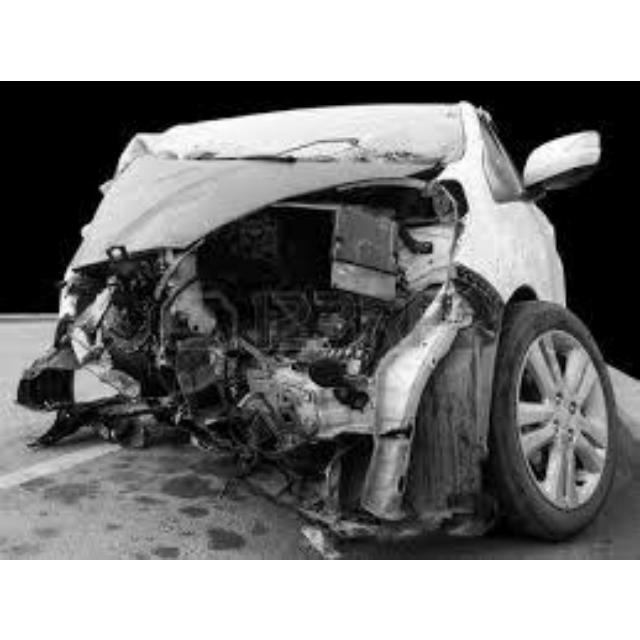Front-windscreen-damage: (129, 100, 460, 164)
